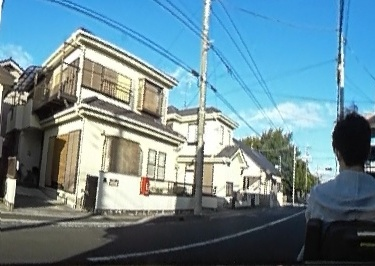person: (300, 111, 375, 245)
